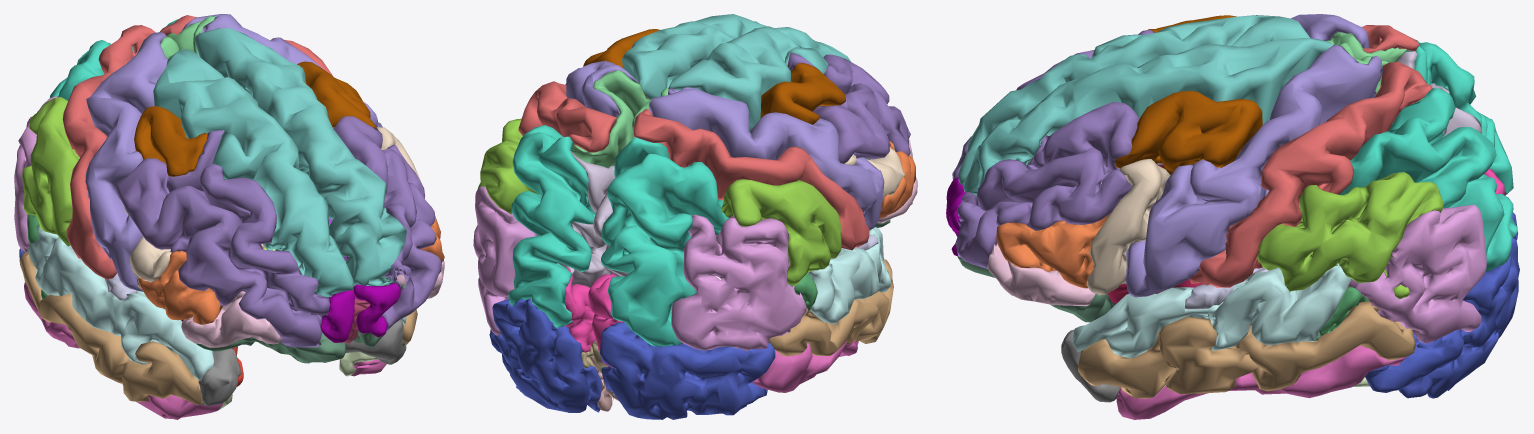
Rendered from cortex.lod2.glb.
3 renders of one model, left to right at view 1: azimuth 30°, elevation 25°; view 2: azimuth 150°, elevation 25°; view 3: azimuth 270°, elevation 25°, orthographic. The views are drawn at different scales.
Visible parts, largest first — view 1: anterior-part-of-middle-frontal-gyrus-r, superior-frontal-gyrus-r, superior-frontal-gyrus-l, precentral-gyrus-r, superior-temporal-gyrus-r, anterior-part-of-middle-frontal-gyrus-l, middle-temporal-gyrus-r, postcentral-gyrus-r, supramarginal-gyrus-r, posterior-part-of-middle-frontal-gyrus-r, triangular-part-of-inferior-frontal-gyrus-r, orbital-part-of-inferior-frontal-gyrus-r (+17 smaller); view 2: superior-parietal-lobule-r, inferior-parietal-lobule-r, superior-parietal-lobule-l, lateral-occipital-gyrus-r, precentral-gyrus-r, lateral-occipital-gyrus-l, postcentral-gyrus-r, superior-frontal-gyrus-r, supramarginal-gyrus-r, anterior-part-of-middle-frontal-gyrus-r, superior-frontal-gyrus-l, inferior-parietal-lobule-l (+16 smaller); view 3: precentral-gyrus-l, superior-frontal-gyrus-l, middle-temporal-gyrus-l, anterior-part-of-middle-frontal-gyrus-l, postcentral-gyrus-l, supramarginal-gyrus-l, superior-temporal-gyrus-l, superior-parietal-lobule-l, inferior-parietal-lobule-l, superior-frontal-gyrus-r, lateral-occipital-gyrus-l, posterior-part-of-middle-frontal-gyrus-l (+13 smaller).
Part boxes in pixels (x1,y1,x2,y2): anterior-part-of-middle-frontal-gyrus-r: (115, 130, 329, 347); superior-frontal-gyrus-r: (153, 49, 353, 297); superior-frontal-gyrus-l: (194, 28, 406, 286); precentral-gyrus-r: (85, 32, 167, 291); superior-temporal-gyrus-r: (27, 224, 214, 380); anterior-part-of-middle-frontal-gyrus-l: (333, 116, 441, 330); middle-temporal-gyrus-r: (19, 252, 203, 405); postcentral-gyrus-r: (62, 25, 155, 279); supramarginal-gyrus-r: (22, 97, 79, 246); posterior-part-of-middle-frontal-gyrus-r: (134, 106, 207, 176); triangular-part-of-inferior-frontal-gyrus-r: (138, 250, 222, 324); orbital-part-of-inferior-frontal-gyrus-r: (181, 291, 282, 347); superior-parietal-lobule-r: (601, 137, 728, 346); inferior-parietal-lobule-r: (671, 214, 806, 350); superior-parietal-lobule-l: (508, 125, 595, 328); lateral-occipital-gyrus-r: (600, 321, 775, 419); precentral-gyrus-r: (648, 87, 884, 230); lateral-occipital-gyrus-l: (489, 299, 601, 412); postcentral-gyrus-r: (633, 109, 869, 250); superior-frontal-gyrus-r: (668, 26, 850, 130); supramarginal-gyrus-r: (721, 179, 841, 285); anterior-part-of-middle-frontal-gyrus-r: (787, 52, 910, 163); superior-frontal-gyrus-l: (622, 14, 767, 99); inferior-parietal-lobule-l: (473, 186, 538, 335); precentral-gyrus-l: (1126, 45, 1383, 297); superior-frontal-gyrus-l: (963, 38, 1332, 195); middle-temporal-gyrus-l: (1078, 301, 1415, 398); anterior-part-of-middle-frontal-gyrus-l: (955, 101, 1139, 269); postcentral-gyrus-l: (1189, 61, 1432, 287); supramarginal-gyrus-l: (1256, 172, 1443, 299); superior-temporal-gyrus-l: (1072, 263, 1351, 358); superior-parietal-lobule-l: (1339, 88, 1517, 271); inferior-parietal-lobule-l: (1348, 204, 1486, 343); superior-frontal-gyrus-r: (958, 15, 1310, 184); lateral-occipital-gyrus-l: (1365, 237, 1519, 398); posterior-part-of-middle-frontal-gyrus-l: (1115, 91, 1262, 174).
Size of the model in its own units: 0.1376 by 0.1255 by 0.1877.
